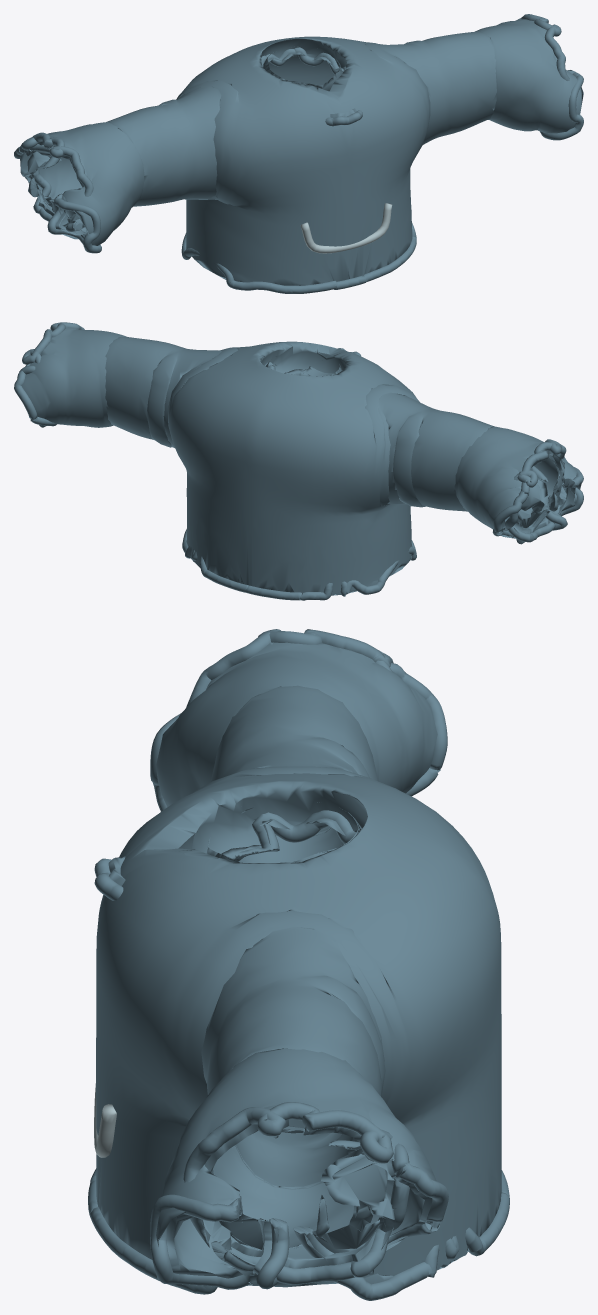
The model's file is 3HT-masculino.glb.
The picture shows the model from 3 angles, top to bottom: view 1: azimuth 30°, elevation 25°; view 2: azimuth 150°, elevation 25°; view 3: azimuth 270°, elevation 25°; orthographic projection. The views are drawn at different scales.
Parts seen in each view (by area): view 1: fitted-shell, bound-edge (×7), pocket-seam; view 2: fitted-shell, bound-edge (×6); view 3: fitted-shell, bound-edge (×7), pocket-seam.
Part boxes in pixels (x1,y1,x2,y2): fitted-shell: (20, 19, 583, 285); bound-edge (×7): (14, 14, 583, 293); pocket-seam: (300, 203, 392, 253); fitted-shell: (22, 327, 581, 595); bound-edge (×6): (14, 322, 583, 600); fitted-shell: (96, 642, 501, 1287); bound-edge (×7): (88, 629, 509, 1300); pocket-seam: (94, 1083, 116, 1157).
Size of the model in its own units: 0.0919 by 0.0326 by 0.0318.
